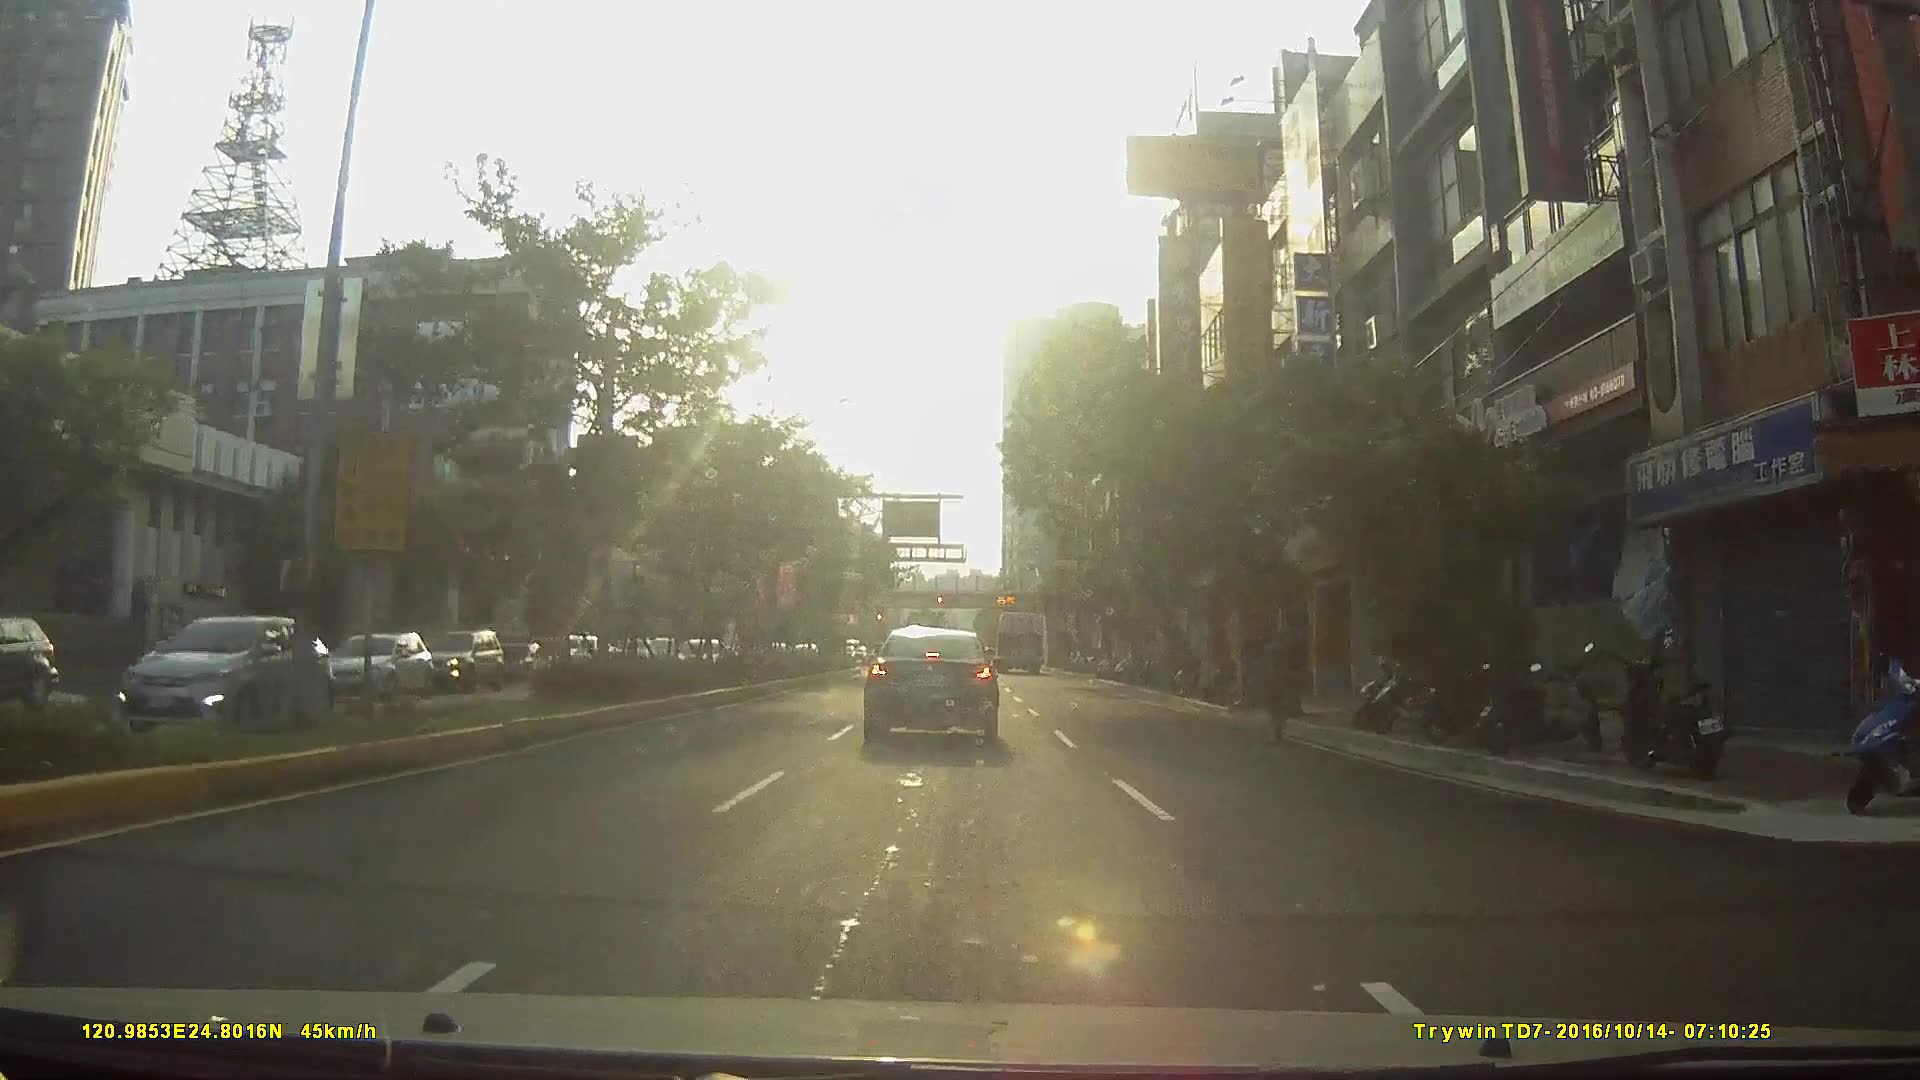pedestrian: (1259, 615, 1305, 735)
vehicle: (107, 601, 342, 728), (864, 622, 1001, 739), (317, 625, 452, 711), (402, 627, 513, 698), (1, 610, 65, 710), (430, 622, 496, 679), (992, 607, 1044, 673)
